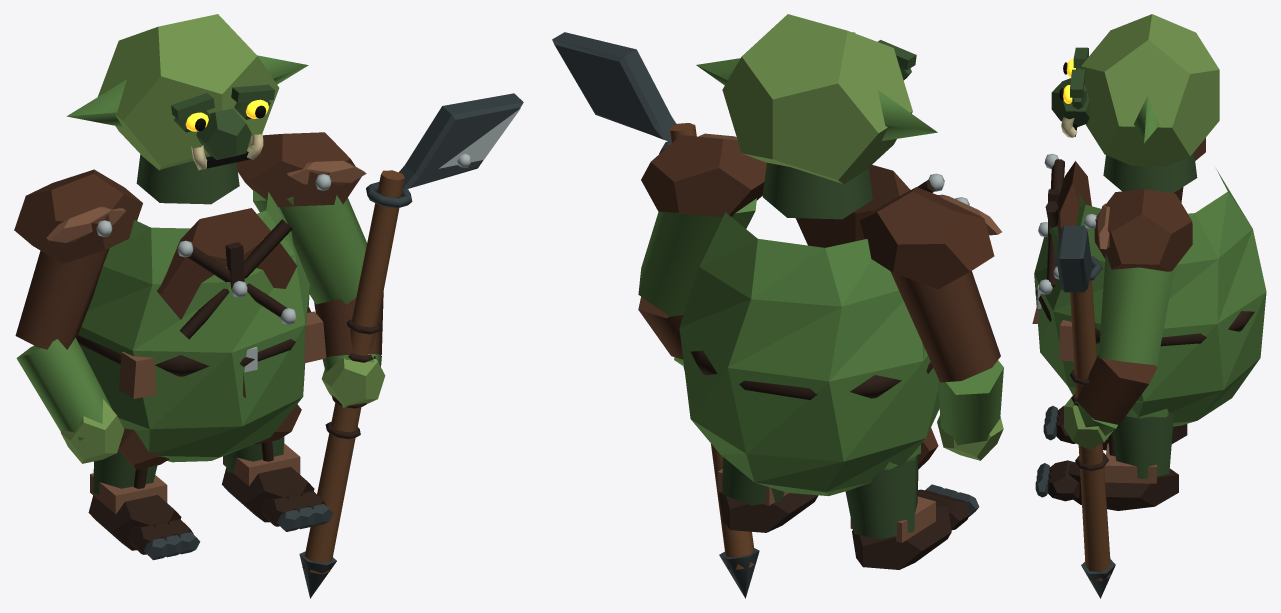
The model's file is orc_warrior.glb.
3 views of the same model, side by side, from view 1: azimuth 30°, elevation 25°; view 2: azimuth 150°, elevation 25°; view 3: azimuth 270°, elevation 25° (orthographic). The views are drawn at different scales.
Visible parts, largest first — view 1: Faceted_Torso, Orc_Head, Axe_Shaft, Left_Shoulder_Pad, Right_Upper_Arm, Chest_Armor, Left_Bracer, Right_Shoulder_Pad, Axe_Blade, Left_Forearm, Neck, Left_Boot (+24 smaller); view 2: Faceted_Torso, Orc_Head, Left_Shoulder_Pad, Right_Shoulder_Pad, Left_Bracer, Axe_Blade, Right_Upper_Arm, Neck, Left_Shin, Left_Forearm, Left_Boot, Chest_Armor (+10 smaller); view 3: Faceted_Torso, Orc_Head, Right_Shoulder_Pad, Right_Upper_Arm, Axe_Shaft, Right_Bracer, Right_Shin, Neck, Right_Boot, Axe_Blade, Chest_Armor, Right_Hand (+11 smaller).
Part boxes in pixels (bbox=[...]): Faceted_Torso: bbox=[78, 192, 309, 462]; Orc_Head: bbox=[98, 14, 279, 170]; Axe_Shaft: bbox=[302, 170, 404, 574]; Left_Shoulder_Pad: bbox=[14, 169, 142, 263]; Right_Upper_Arm: bbox=[253, 190, 366, 304]; Chest_Armor: bbox=[157, 208, 296, 319]; Left_Bracer: bbox=[15, 248, 109, 349]; Right_Shoulder_Pad: bbox=[236, 132, 361, 207]; Axe_Blade: bbox=[399, 93, 523, 189]; Left_Forearm: bbox=[16, 337, 112, 440]; Neck: bbox=[136, 154, 239, 204]; Left_Boot: bbox=[88, 495, 181, 550]; Faceted_Torso: bbox=[679, 212, 939, 496]; Orc_Head: bbox=[722, 14, 912, 184]; Left_Shoulder_Pad: bbox=[859, 187, 994, 289]; Right_Shoulder_Pad: bbox=[641, 135, 766, 217]; Left_Bracer: bbox=[890, 271, 1000, 382]; Axe_Blade: bbox=[552, 32, 676, 141]; Right_Upper_Arm: bbox=[638, 198, 756, 316]; Neck: bbox=[762, 162, 872, 219]; Left_Shin: bbox=[845, 455, 918, 538]; Left_Forearm: bbox=[937, 360, 1003, 445]; Left_Boot: bbox=[852, 494, 951, 569]; Chest_Armor: bbox=[796, 165, 910, 247]; Faceted_Torso: bbox=[1034, 169, 1266, 426]; Orc_Head: bbox=[1081, 14, 1219, 166]; Right_Shoulder_Pad: bbox=[1094, 189, 1192, 271]; Right_Upper_Arm: bbox=[1098, 252, 1174, 365]; Axe_Shaft: bbox=[1070, 280, 1110, 581]; Right_Bracer: bbox=[1076, 354, 1157, 424]; Right_Shin: bbox=[1112, 413, 1173, 478]; Neck: bbox=[1103, 152, 1197, 193]; Right_Boot: bbox=[1068, 462, 1178, 510]; Axe_Blade: bbox=[1056, 225, 1092, 292]; Chest_Armor: bbox=[1057, 161, 1091, 237]; Right_Hand: bbox=[1064, 393, 1112, 449].
Bounding box in the file's own units: 4.38 × 5.35 × 2.14.
